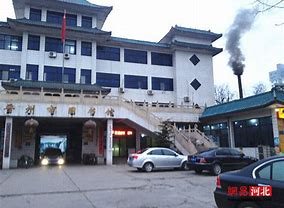smoke: (224, 7, 261, 75)
